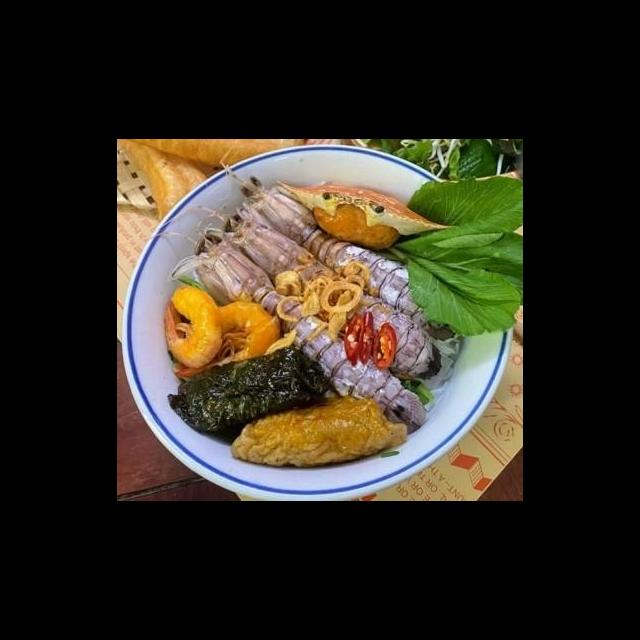tom: (173, 298, 284, 381), (159, 281, 225, 371)
tom tit: (168, 230, 430, 437), (213, 210, 445, 382), (232, 174, 457, 343)
